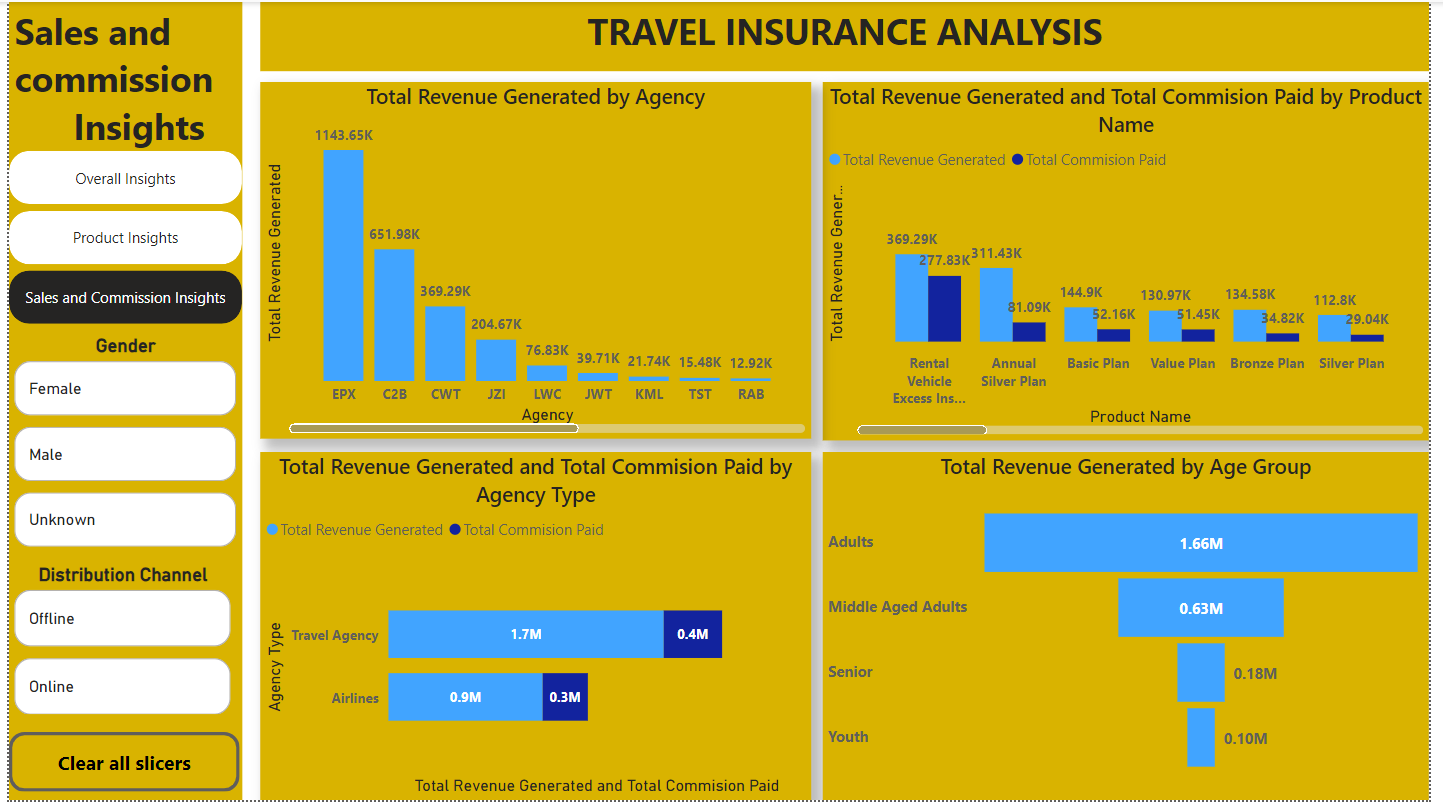

The dashboard page shown, as its layout file describes it:
{"tool":"powerbi","page":{"name":"Sales and Commission Insights","canvas":[1301,720],"ordinal":2},"visuals":[{"type":"textbox","box":[0,0,210.3,720.2],"z":0},{"type":"advancedSlicerVisual","fields":{"Values":["travel insurance.Gender"]},"box":[0,299.6,210.3,196.9],"z":1000},{"type":"advancedSlicerVisual","fields":{"Values":["travel insurance.Distribution Channel"]},"box":[0,506.3,205.4,141.8],"z":2000},{"type":"clusteredColumnChart","fields":{"Category":["travel insurance.Product Name"],"Y":["travel insurance.Total Revenue Generated","travel insurance.Total Commision Paid"]},"box":[733.7,72.1,546.6,322.8],"z":3000},{"type":"clusteredColumnChart","fields":{"Y":["travel insurance.Total Revenue Generated"],"Category":["travel insurance.Agency"]},"box":[226.2,72.1,496.5,321.6],"z":4000},{"type":"barChart","fields":{"Category":["travel insurance.Agency Type"],"Y":["travel insurance.Total Revenue Generated","travel insurance.Total Commision Paid"]},"box":[226.2,406,496.5,314.3],"z":5000},{"type":"funnel","fields":{"Category":["travel insurance.Age Group"],"Y":["travel insurance.Total Revenue Generated"]},"box":[733.7,406,546.6,314.3],"z":6000},{"type":"textbox","box":[226.2,0,1054.1,62.4],"z":7000},{"type":"actionButton","box":[0,657.9,207.9,53.8],"z":8000},{"type":"pageNavigator","box":[0,134.5,210.3,156.5],"z":9000}]}

Visuals, with their boxes in screenshot pixels (x1, y1, x2, y2), scaled from the page's 1301x720 canvas onto the 1443x809 screenshot:
textbox: bbox=(0, 0, 233, 808)
advancedSlicerVisual - travel insurance.Gender: bbox=(0, 337, 233, 558)
advancedSlicerVisual - travel insurance.Distribution Channel: bbox=(0, 569, 228, 728)
clusteredColumnChart - travel insurance.Product Name x travel insurance.Total Revenue Generated: bbox=(814, 81, 1420, 444)
clusteredColumnChart - travel insurance.Total Revenue Generated x travel insurance.Agency: bbox=(251, 81, 802, 442)
barChart - travel insurance.Agency Type x travel insurance.Total Revenue Generated: bbox=(251, 456, 802, 808)
funnel - travel insurance.Age Group x travel insurance.Total Revenue Generated: bbox=(814, 456, 1420, 808)
textbox: bbox=(251, 0, 1420, 70)
actionButton: bbox=(0, 739, 231, 800)
pageNavigator: bbox=(0, 151, 233, 327)
